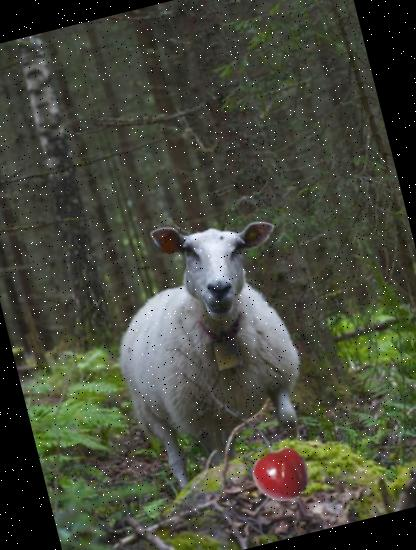Cherry: (248, 440, 316, 508)
